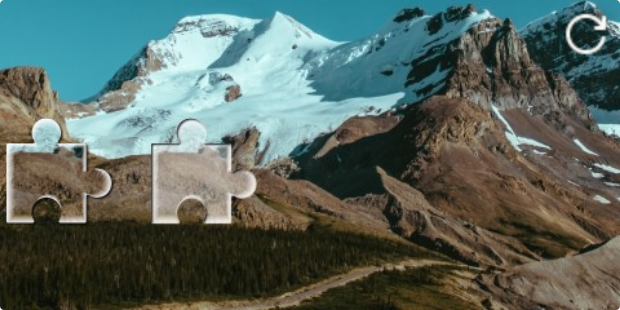target: (151, 118, 255, 223)
